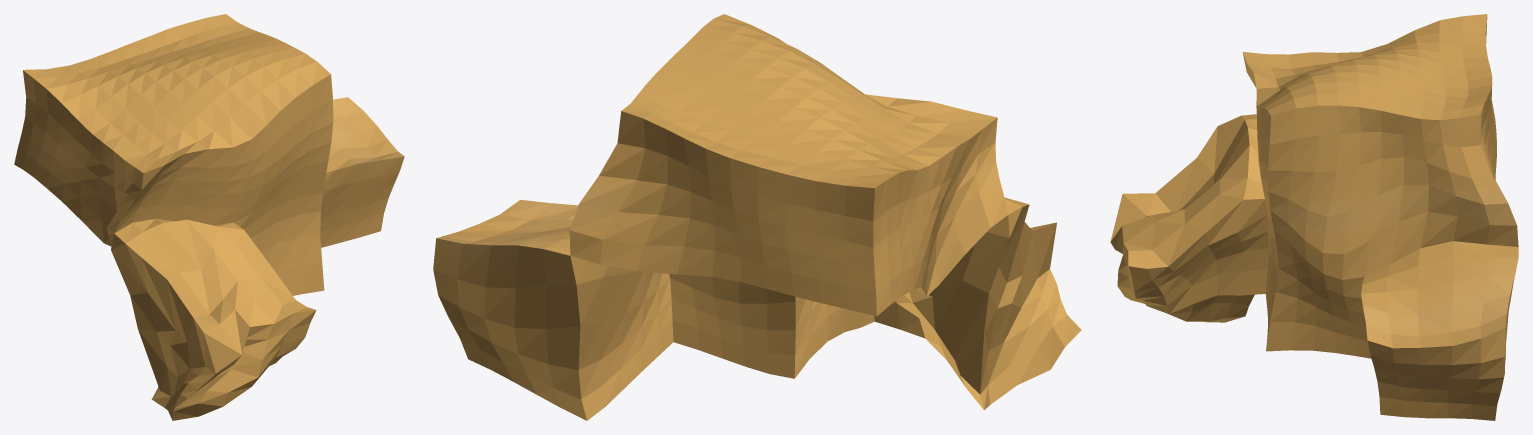
The model's file is SmallIsland.fbx.
3 renders of one model, left to right at view 1: azimuth 30°, elevation 25°; view 2: azimuth 150°, elevation 25°; view 3: azimuth 270°, elevation 25°, orthographic. The views are drawn at different scales.
Visible parts, largest first — view 1: Base; view 2: Base; view 3: Base.
Part boxes in pixels (x1,y1,x2,y2): Base: [14, 14, 404, 420]; Base: [433, 14, 1081, 420]; Base: [1110, 14, 1518, 420].
Size of the model in its own units: 64.93 by 50.01 by 58.34.
Materials: 1 (1 with a texture image).
